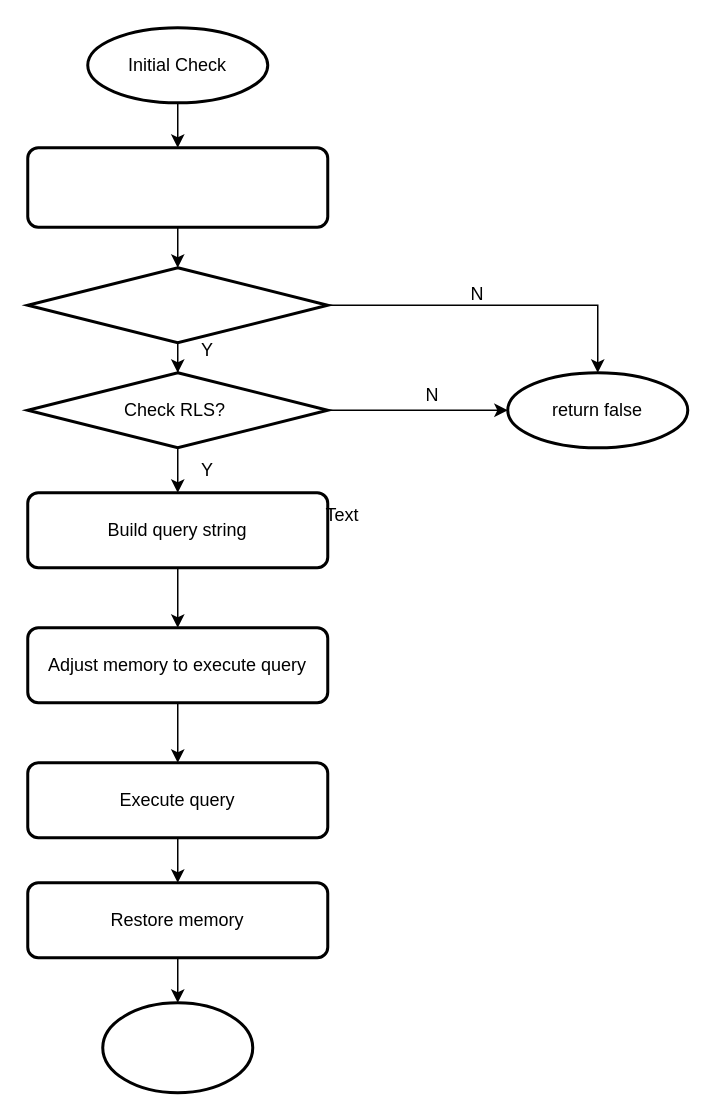
Image size: 714x1119. Some labels were removed from this diagram. Each missing label, with the centre of its shape:
"Check permissions ?" belongs at [177,305].
"Fetch constraint information from pg_constraint catalog" belongs at [177,187].
"report and return result" belongs at [177,1047].
